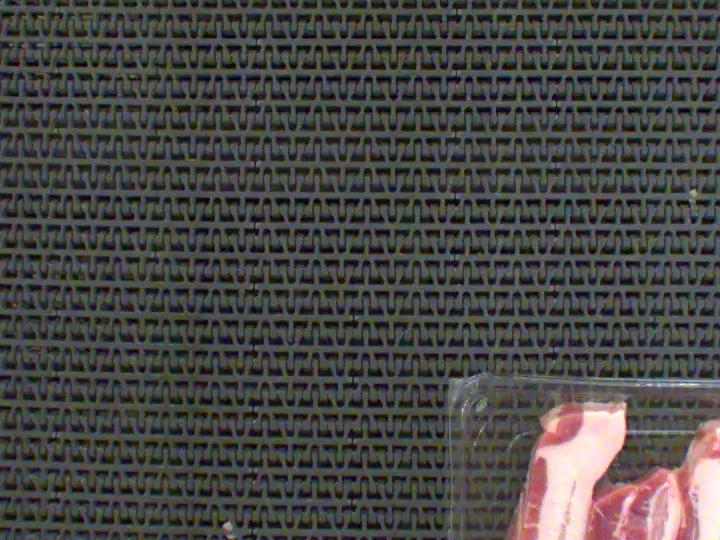packaging-error: (701, 386, 720, 422)
